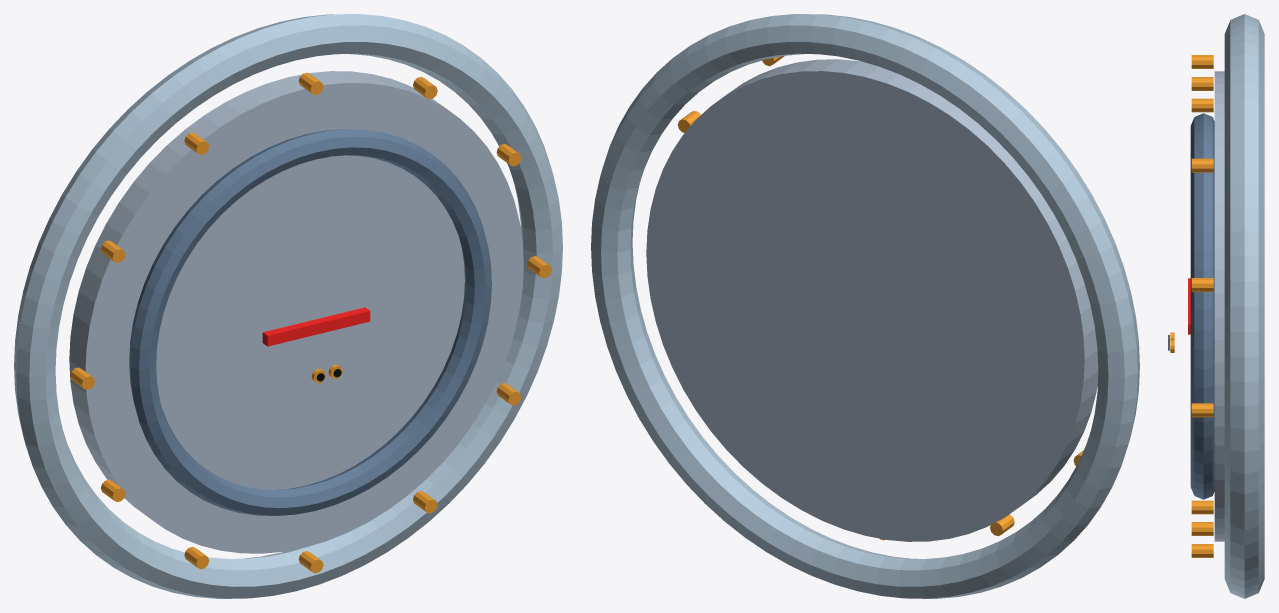
File: 04_L89_ShelterEntranceShieldedBulkhead.fbx
3 views of the same model, side by side, from view 1: azimuth 30°, elevation 25°; view 2: azimuth 150°, elevation 25°; view 3: azimuth 270°, elevation 25° (orthographic). The views are drawn at different scales.
Parts seen in each view (by area): view 1: L87_ShelterEntranceShieldedBulkhead_Part_0001, L87_ShelterEntranceShieldedBulkhead_Part_0000, L87_ShelterEntranceShieldedBulkhead_Part_0002, L87_ShelterEntranceShieldedBulkhead_Part_0003, L87_ShelterEntranceShieldedBulkhead_Part_0004; view 2: L87_ShelterEntranceShieldedBulkhead_Part_0001, L87_ShelterEntranceShieldedBulkhead_Part_0000, L87_ShelterEntranceShieldedBulkhead_Part_0003; view 3: L87_ShelterEntranceShieldedBulkhead_Part_0000, L87_ShelterEntranceShieldedBulkhead_Part_0002, L87_ShelterEntranceShieldedBulkhead_Part_0001, L87_ShelterEntranceShieldedBulkhead_Part_0003, L87_ShelterEntranceShieldedBulkhead_Part_0004.
Part boxes in pixels (x1,y1,x2,y2): L87_ShelterEntranceShieldedBulkhead_Part_0001: (69, 71, 523, 553); L87_ShelterEntranceShieldedBulkhead_Part_0000: (14, 14, 562, 598); L87_ShelterEntranceShieldedBulkhead_Part_0002: (129, 129, 491, 515); L87_ShelterEntranceShieldedBulkhead_Part_0003: (70, 72, 551, 573); L87_ShelterEntranceShieldedBulkhead_Part_0004: (262, 307, 370, 346); L87_ShelterEntranceShieldedBulkhead_Part_0001: (646, 59, 1098, 541); L87_ShelterEntranceShieldedBulkhead_Part_0000: (591, 14, 1139, 598); L87_ShelterEntranceShieldedBulkhead_Part_0003: (678, 56, 1083, 540); L87_ShelterEntranceShieldedBulkhead_Part_0000: (1224, 14, 1264, 598); L87_ShelterEntranceShieldedBulkhead_Part_0002: (1190, 113, 1214, 499); L87_ShelterEntranceShieldedBulkhead_Part_0001: (1214, 71, 1224, 541); L87_ShelterEntranceShieldedBulkhead_Part_0003: (1191, 55, 1213, 557); L87_ShelterEntranceShieldedBulkhead_Part_0004: (1188, 278, 1190, 334).
Bounding box in the file's own units: 584 × 584 × 96.2.
